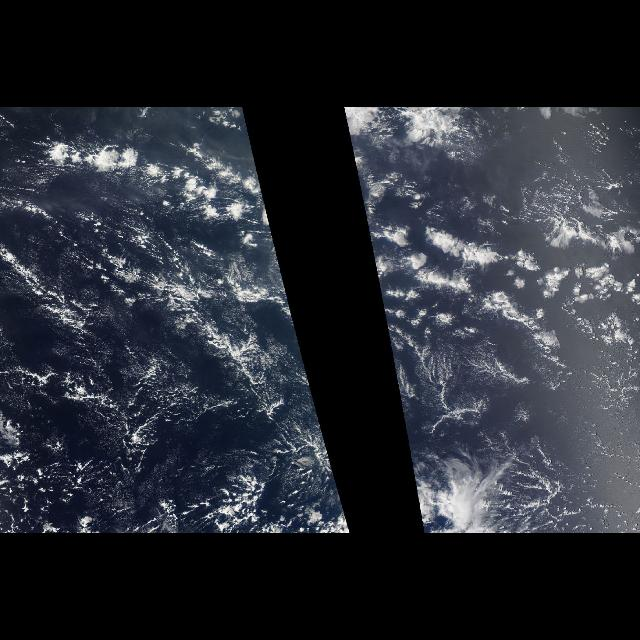Flower: (358, 186, 640, 412)
